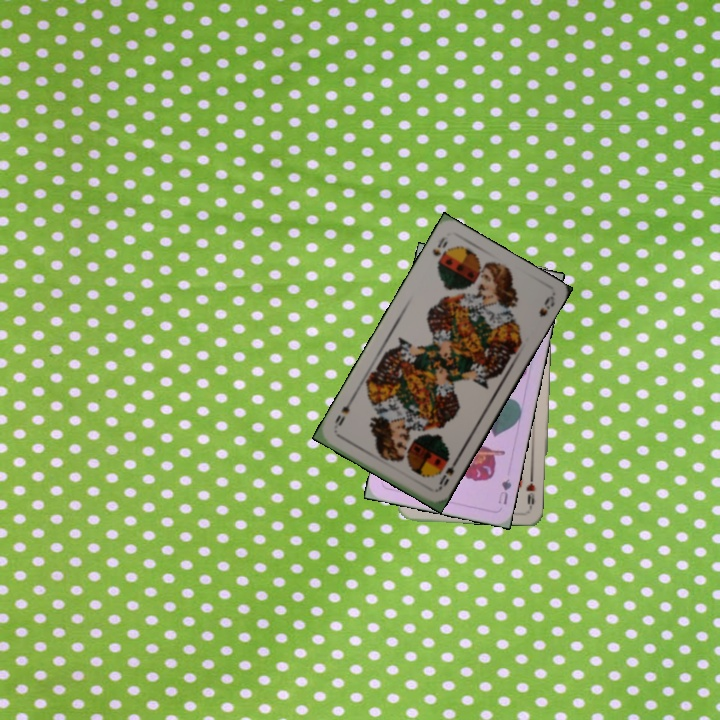GU: (494, 475, 514, 507)
H9: (522, 469, 538, 510)
SO: (434, 456, 460, 493), (428, 233, 450, 259)
